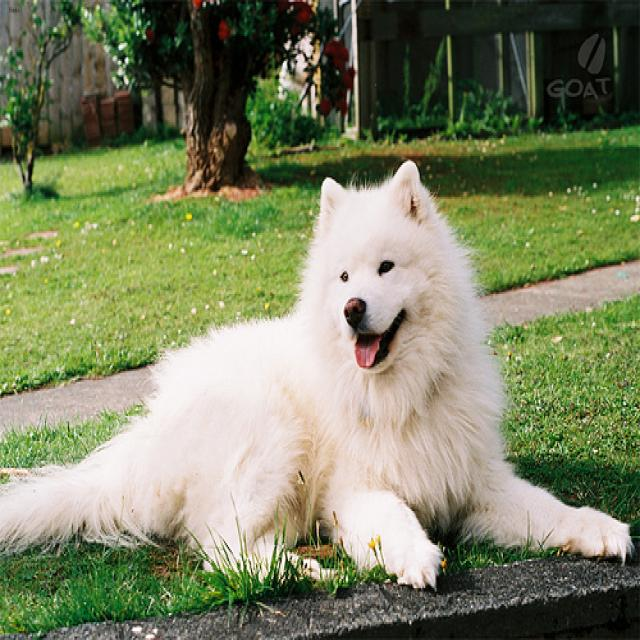dog-samoyed: (1, 151, 637, 592)
